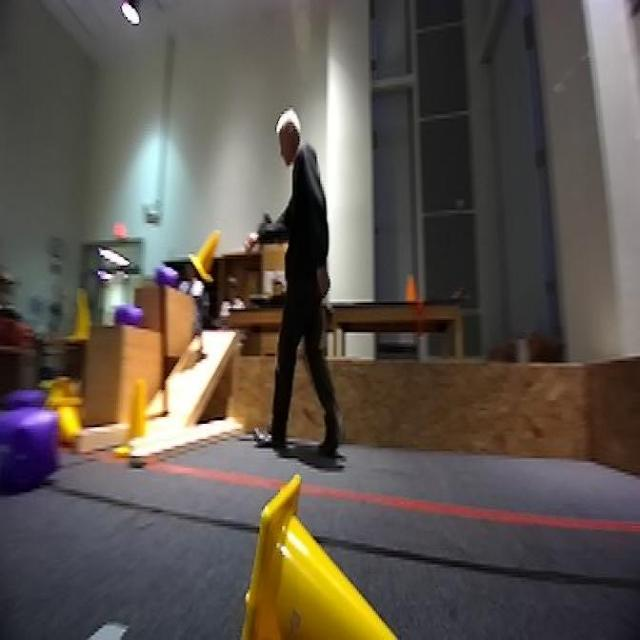frc_cone: (237, 464, 425, 640), (118, 378, 151, 456), (187, 232, 224, 284), (68, 288, 95, 347), (59, 393, 85, 443), (45, 371, 79, 402)
frc_cube: (0, 408, 59, 498), (8, 388, 46, 412), (113, 298, 148, 323), (151, 262, 179, 289)
